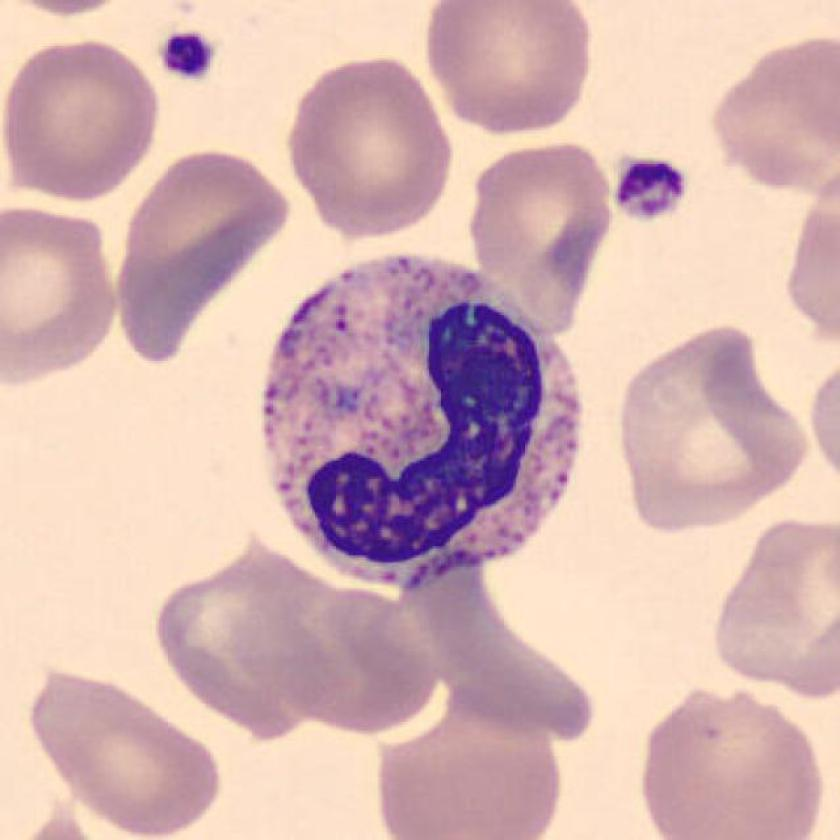neutrophil: (263, 260, 583, 583)
